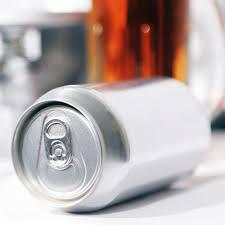beer: (12, 78, 210, 214)
